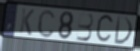8: (58, 10, 75, 40)
B: (75, 12, 94, 43)
C: (94, 13, 115, 45), (36, 8, 57, 39)
D: (113, 15, 134, 46)
K: (18, 7, 36, 37)
